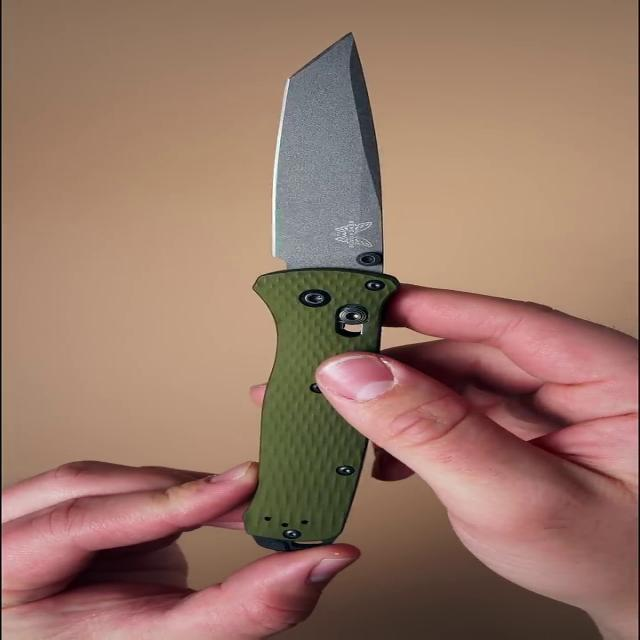Knife: (242, 12, 411, 564)
